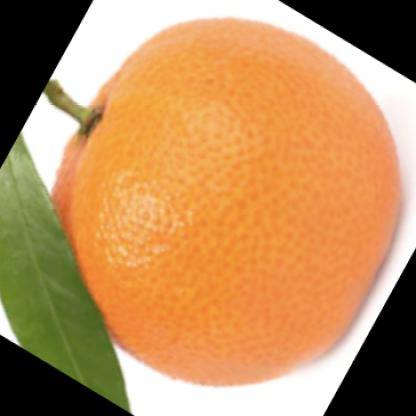fresh: (47, 20, 403, 389)
